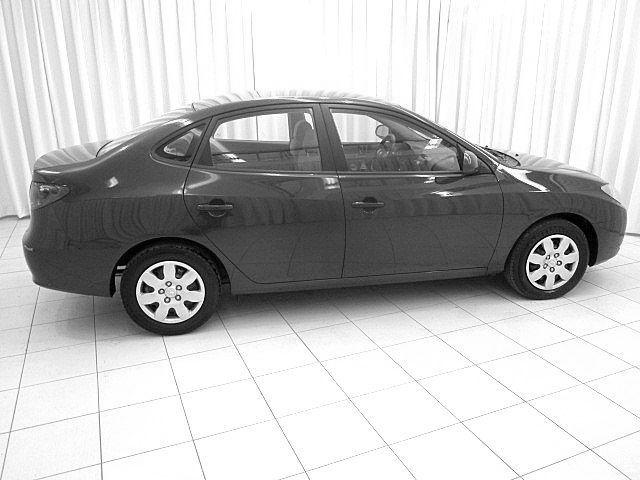car: (20, 90, 632, 339)
